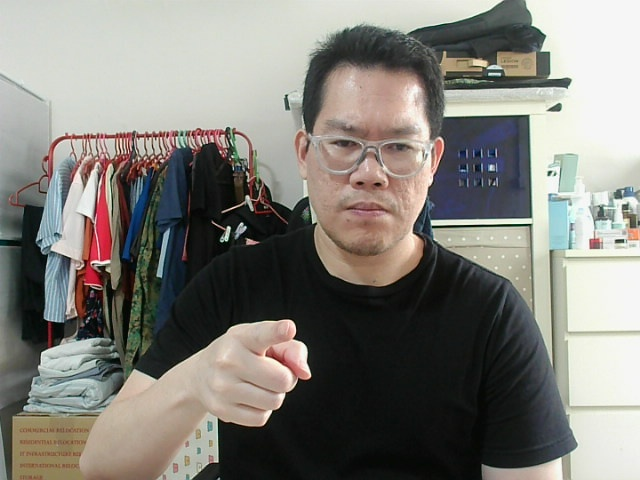you: (197, 331, 304, 418)
